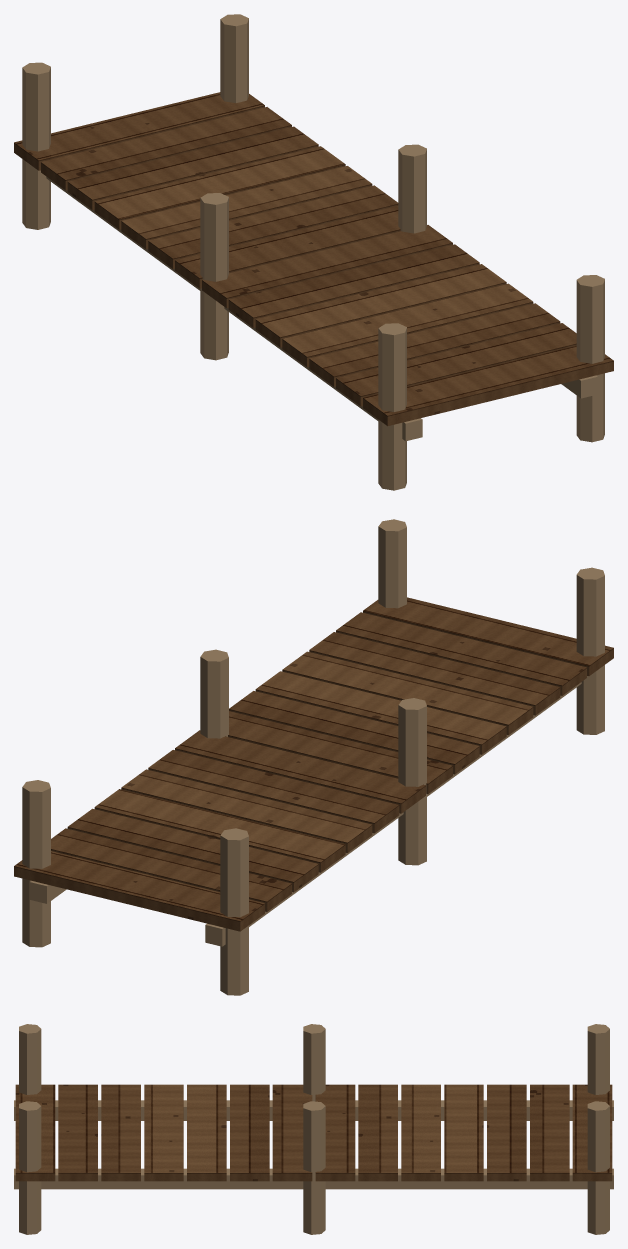
The model's file is dock.glb.
3 views of the same model, one above another, from view 1: azimuth 30°, elevation 25°; view 2: azimuth 150°, elevation 25°; view 3: azimuth 270°, elevation 25° (orthographic). The views are drawn at different scales.
Parts seen in each view (by area): view 1: dock; view 2: dock; view 3: dock.
Part boxes in pixels (<box>): dock: <box>14,14,613,490</box>; dock: <box>14,519,613,995</box>; dock: <box>14,1024,613,1234</box>.
Size of the model in its own units: 1.6 by 1.05 by 4.6.
Materials: 2 (1 with a texture image).
